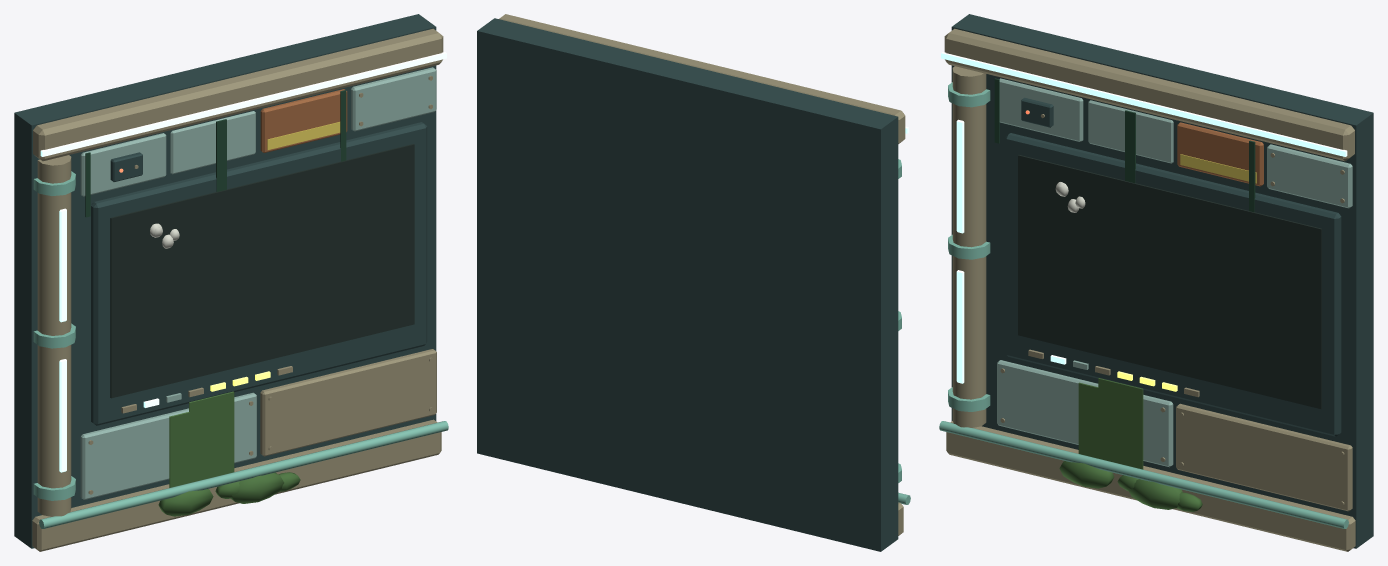
Rendered from wall_dr_bigscreen.glb.
3 renders of one model, left to right at view 1: azimuth 30°, elevation 25°; view 2: azimuth 150°, elevation 25°; view 3: azimuth 330°, elevation 25°, orthographic.
Visible parts, largest first — view 1: wall_dr_bigscreen; view 2: wall_dr_bigscreen; view 3: wall_dr_bigscreen.
Boxes of the visible parts, <box> form: wall_dr_bigscreen: <box>14,14,448,551</box>; wall_dr_bigscreen: <box>477,14,910,551</box>; wall_dr_bigscreen: <box>939,14,1373,551</box>.
Bounding box in the file's own units: 4 × 4 × 0.5695.
